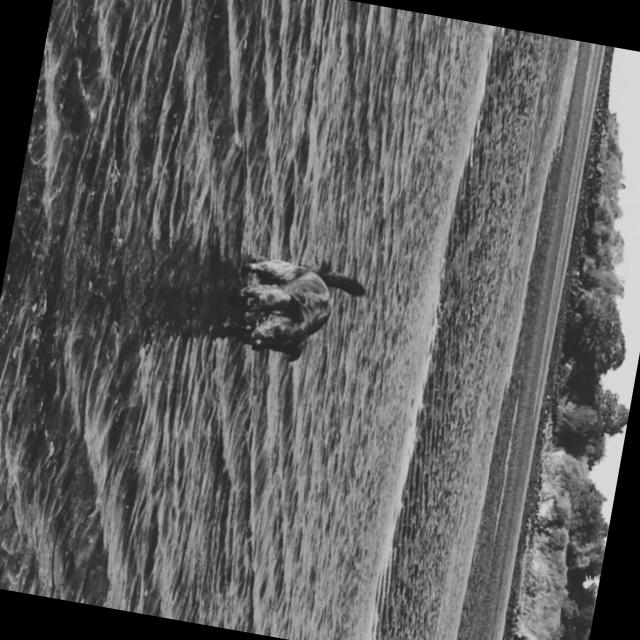squatting: (206, 231, 378, 383)
